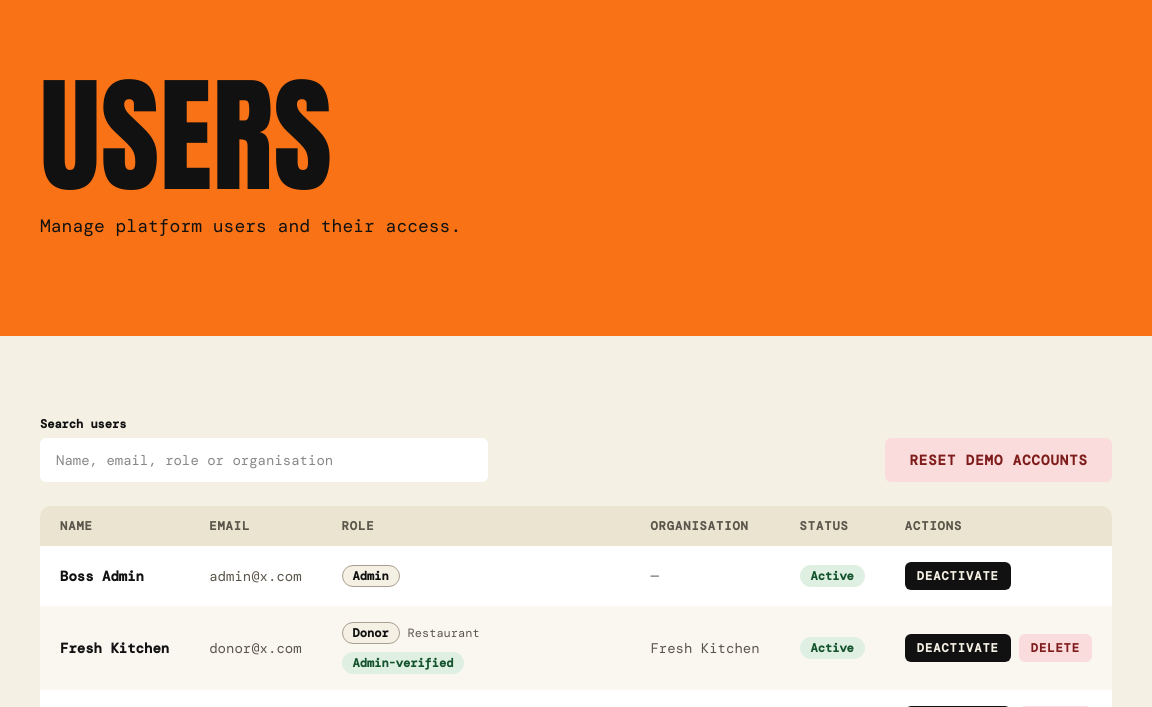
Scenario: Reset demo accounts › confirms, deletes every non-admin account and keeps the admin
The width and height of the screenshot is (1152, 707).
Click the button "Reset demo accounts".
click(999, 460)  # box [885,438,1112,482]
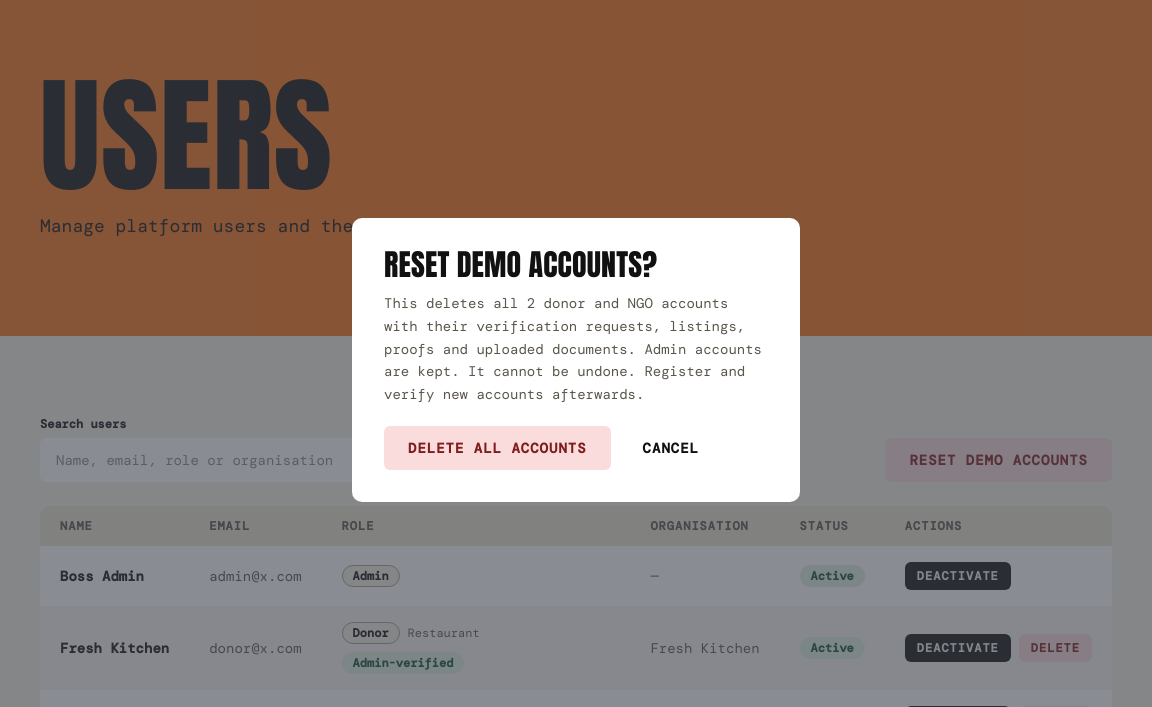
Check: the text "Admin accounts are kept" is shown, box [384,294,762,403]
Click the button "Delete all accounts".
click(497, 448)  # box [384,426,611,470]
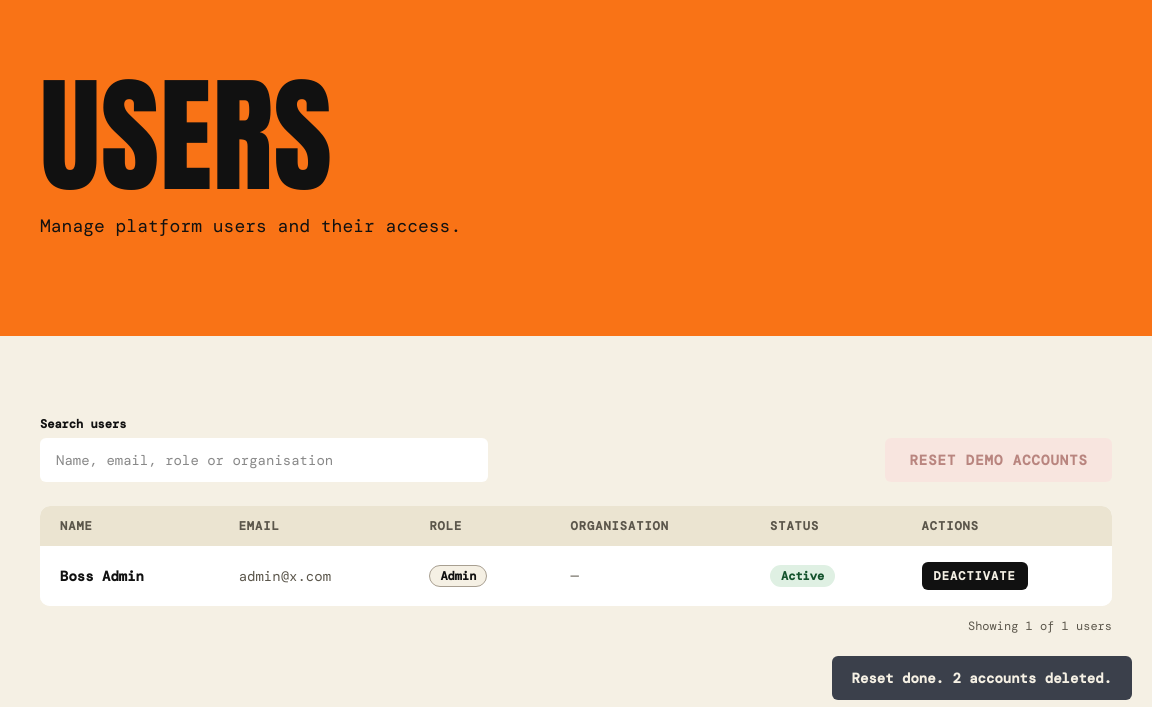
Check: the text "admin@x.com" is shown, box [219,546,409,606]
Check: the text "donor@x.com" is gone
